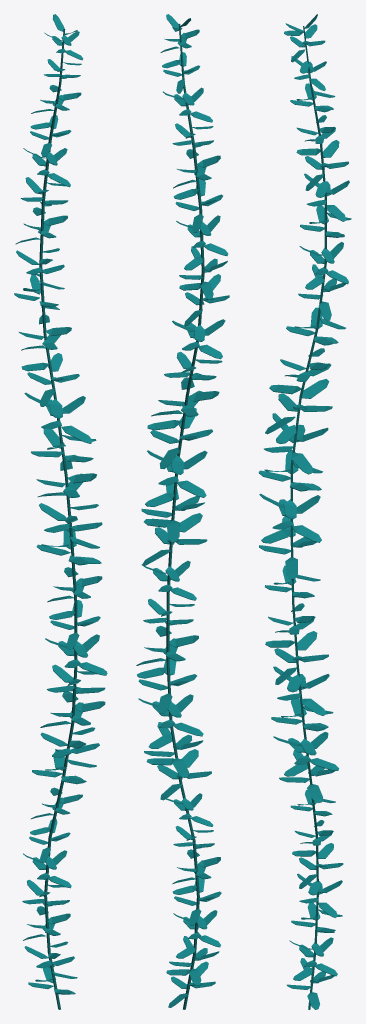
File: Seaweed_023.glb
The picture shows the model from 3 angles, left to right: view 1: azimuth 30°, elevation 25°; view 2: azimuth 210°, elevation 25°; view 3: azimuth 270°, elevation 25°; orthographic projection.
Visible parts, largest first — view 1: Seaweed_023; view 2: Seaweed_023; view 3: Seaweed_023.
Part boxes in pixels (bbox=[...]): Seaweed_023: bbox=[14, 14, 107, 1009]; Seaweed_023: bbox=[136, 14, 229, 1009]; Seaweed_023: bbox=[258, 14, 351, 1009].
Bounding box in the file's own units: 0.8687 × 11.11 × 0.9428.
1 material, 1 textured.
